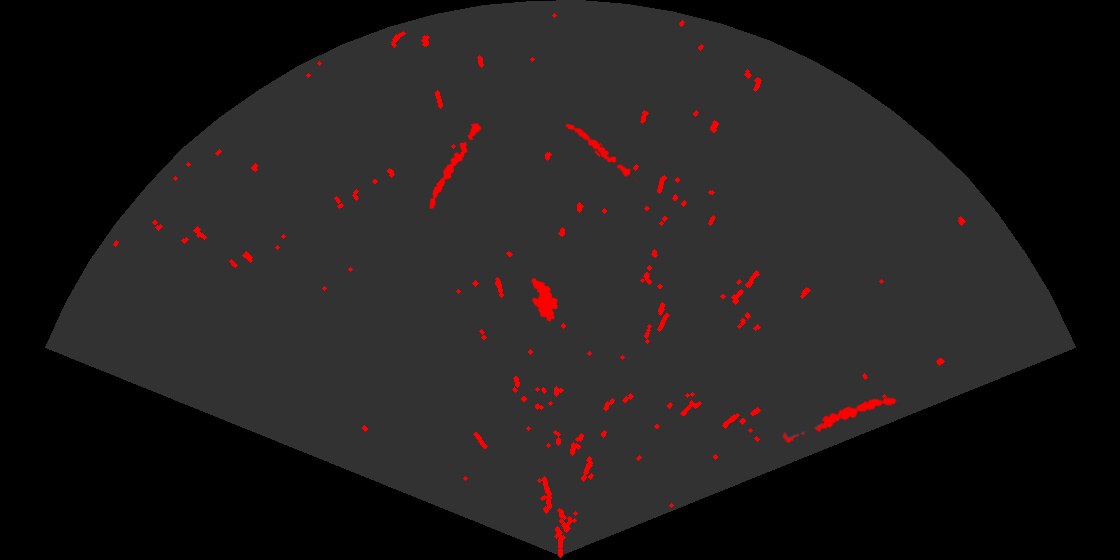AUV: (530, 277, 559, 323)
chain: (780, 396, 898, 445), (428, 121, 483, 211), (564, 122, 640, 182)
